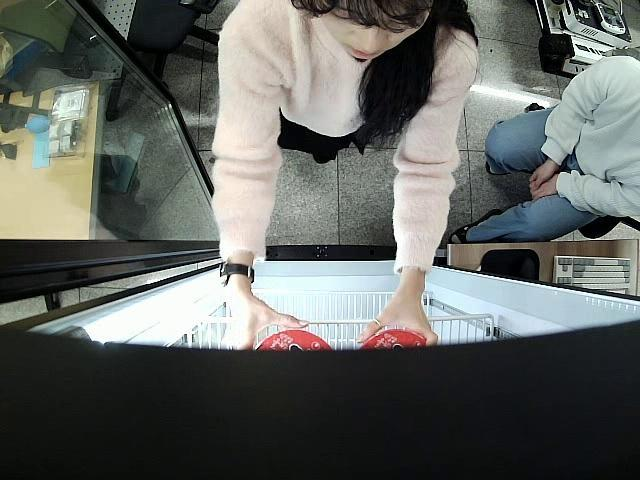01_ShinRamen_L: (256, 330, 336, 355), (355, 330, 429, 349)
